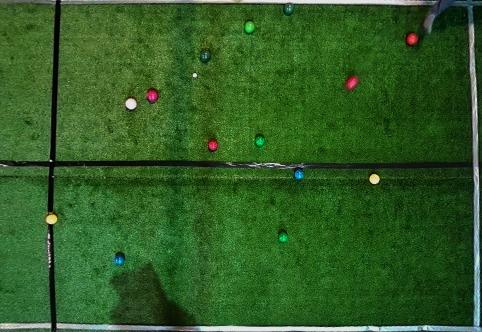blue: (294, 169, 304, 180), (114, 255, 125, 265)
green: (244, 21, 255, 34), (201, 50, 211, 62), (284, 3, 294, 15), (279, 232, 288, 243), (256, 135, 265, 146)
red: (345, 75, 359, 90), (405, 32, 419, 45), (146, 89, 159, 102), (125, 98, 137, 110), (208, 140, 218, 151)
vline: (1, 0, 62, 216), (1, 224, 57, 331), (464, 0, 481, 332)
white: (193, 73, 197, 77)
yellow: (369, 174, 380, 185), (45, 214, 57, 224)
